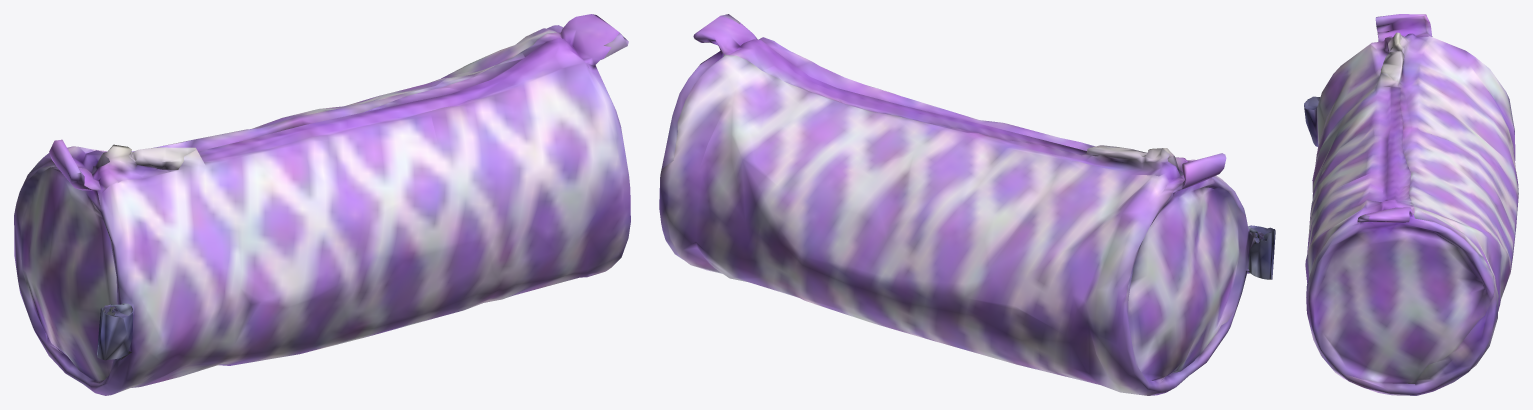
Rendered from Wishbone_Pencil_Case-medium.glb.
3 views of the same model, side by side, from view 1: azimuth 30°, elevation 25°; view 2: azimuth 150°, elevation 25°; view 3: azimuth 270°, elevation 25° (orthographic). The views are drawn at different scales.
Visible parts, largest first — view 1: Wishbone_Pencil_Case; view 2: Wishbone_Pencil_Case; view 3: Wishbone_Pencil_Case.
Part boxes in pixels (x1,y1,x2,y2): Wishbone_Pencil_Case: (14, 14, 630, 395); Wishbone_Pencil_Case: (659, 14, 1275, 395); Wishbone_Pencil_Case: (1304, 14, 1518, 395).
Bounding box in the file's own units: 0.2208 × 0.0943 × 0.0927.
1 material, 1 textured.
